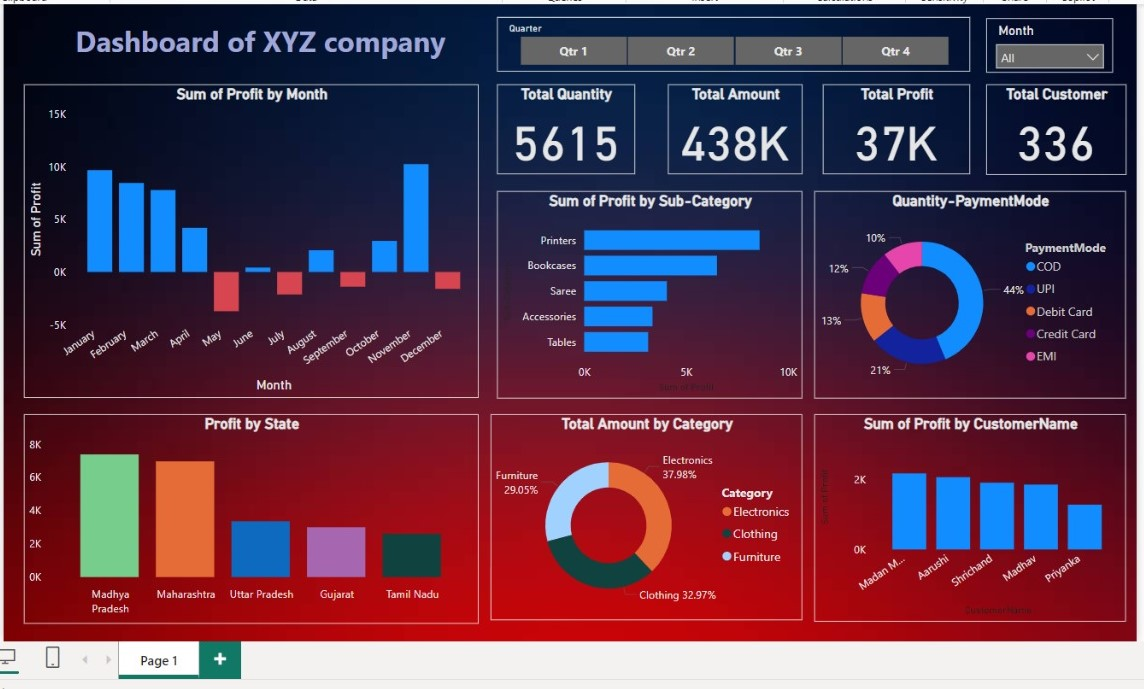

The page's visual inventory and layout, read from the dashboard file:
{"tool":"powerbi","page":{"name":"Page 1","canvas":[1280,720],"ordinal":0},"visuals":[{"type":"textbox","box":[22.9,14.5,534.5,61.5],"z":0},{"type":"columnChart","title":"Profit by State","fields":{"Category":["Orders.State"],"Y":["Details.Profit"]},"box":[22.9,463.3,513.9,236.5],"z":1000},{"type":"slicer","fields":{"Values":["Orders.Order Date.Variation.Date Hierarchy.Quarter"]},"box":[557.4,14.5,534.5,61.5],"z":2000},{"type":"slicer","fields":{"Values":["Orders.Order Date.Variation.Date Hierarchy.Month"]},"box":[1109.9,15.7,143.6,61.5],"z":3000},{"type":"card","title":"Total Amount","fields":{"Values":["Details.Amount"]},"box":[750.4,90.5,152,101.3],"z":4000},{"type":"card","title":"Total Quantity","fields":{"Values":["Details.Quantity"]},"box":[557.4,90.5,155.6,101.3],"z":5000},{"type":"card","title":"Total Profit","fields":{"Values":["Details.Profit"]},"box":[925.3,90.5,166.5,101.3],"z":6000},{"type":"donutChart","title":"Total Amount by Category","fields":{"Y":["Details.Amount"],"Category":["Details.Category"]},"box":[550.1,463.3,352.3,232.8],"z":7000},{"type":"lineStackedColumnComboChart","fields":{"Y":["Details.Profit"],"Category":["Orders.Order Date.Variation.Date Hierarchy.Month"]},"box":[22.9,90.5,513.9,354.7],"z":8000},{"type":"clusteredBarChart","fields":{"Y":["Details.Profit"],"Category":["Details.Sub-Category"]},"box":[557.4,211.1,345,234],"z":9000},{"type":"donutChart","title":"Quantity-PaymentMode","fields":{"Category":["Details.PaymentMode"],"Y":["Details.Quantity"]},"box":[915.7,211.1,352.3,234],"z":10000},{"type":"card","title":"Total Customer","fields":{"Values":["Orders.CustomerName"]},"box":[1109.9,90.5,158,102.5],"z":11000},{"type":"columnChart","fields":{"Category":["Orders.CustomerName"],"Y":["Details.Profit"]},"box":[915.7,463.3,352.3,234],"z":12000}]}

Visuals, with their boxes in screenshot pixels (x1, y1, x2, y2):
textbox: <region>0, 10, 486, 66</region>
"Profit by State" columnChart: <region>0, 420, 467, 636</region>
slicer - Orders.Order Date.Variation.Date Hierarchy.Quarter: <region>486, 10, 974, 66</region>
slicer - Orders.Order Date.Variation.Date Hierarchy.Month: <region>990, 11, 1122, 68</region>
"Total Amount" card: <region>662, 80, 801, 172</region>
"Total Quantity" card: <region>486, 80, 628, 172</region>
"Total Profit" card: <region>822, 80, 974, 172</region>
"Total Amount by Category" donutChart: <region>479, 420, 801, 633</region>
lineStackedColumnComboChart - Details.Profit x Orders.Order Date.Variation.Date Hierarchy.Month: <region>0, 80, 467, 404</region>
clusteredBarChart - Details.Profit x Details.Sub-Category: <region>486, 190, 801, 404</region>
"Quantity-PaymentMode" donutChart: <region>813, 190, 1135, 404</region>
"Total Customer" card: <region>990, 80, 1135, 173</region>
columnChart - Orders.CustomerName x Details.Profit: <region>813, 420, 1135, 634</region>
